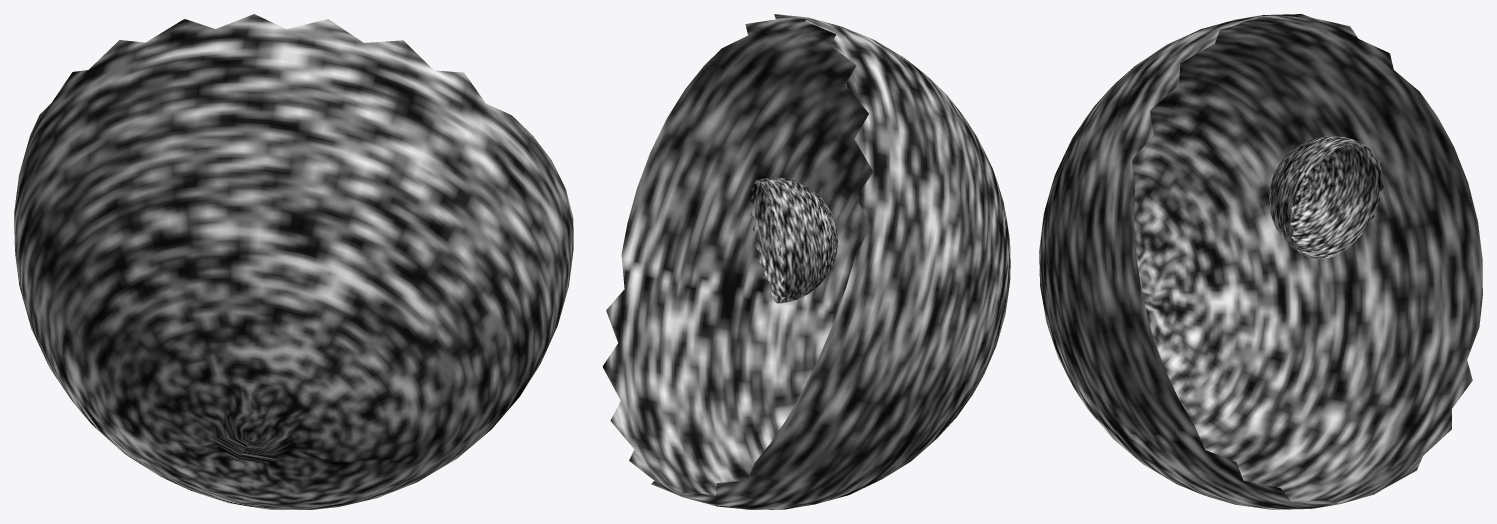
Rendered from Eff_Moon_Rock.fbx.
The picture shows the model from 3 angles, left to right: view 1: azimuth 30°, elevation 25°; view 2: azimuth 150°, elevation 25°; view 3: azimuth 270°, elevation 25°; orthographic projection. The views are drawn at different scales.
Visible parts, largest first — view 1: Eff_HalfGeoSphere_02; view 2: Eff_HalfGeoSphere_02 (×2); view 3: Eff_HalfGeoSphere_02 (×2).
Part boxes in pixels (bbox=[...]): Eff_HalfGeoSphere_02: bbox=[14, 14, 573, 509]; Eff_HalfGeoSphere_02 (×2): bbox=[602, 14, 1010, 509]; Eff_HalfGeoSphere_02 (×2): bbox=[1039, 14, 1482, 509].
Bounding box in the file's own units: 3257 × 3404 × 3101.
Materials: 1 (1 with a texture image).
